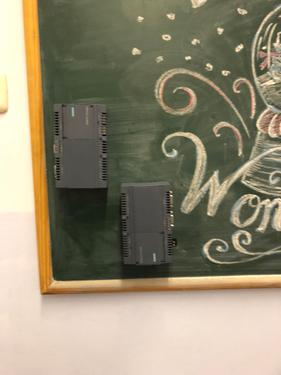device: (120, 181, 176, 265), (53, 103, 107, 188)
